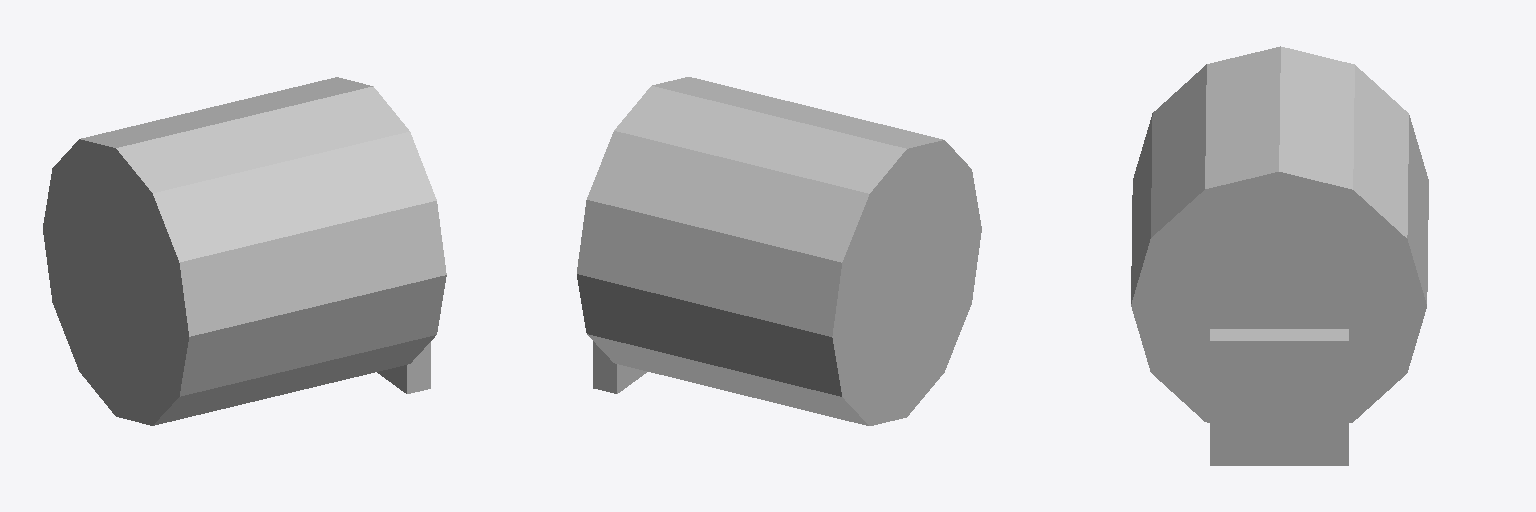
Rendered from rotary.obj.
3 renders of one model, left to right at view 1: azimuth 30°, elevation 25°; view 2: azimuth 150°, elevation 25°; view 3: azimuth 270°, elevation 25°, orthographic.
Parts seen in each view (by area): view 1: Cylinder, Cube.001; view 2: Cylinder, Cube.001; view 3: Cylinder, Cube.001.
Boxes of the visible parts, box(x1,y1,x2,y2) form: Cylinder: box(43, 77, 446, 425); Cube.001: box(377, 342, 430, 393); Cylinder: box(577, 77, 981, 425); Cube.001: box(593, 341, 646, 393); Cylinder: box(1131, 46, 1428, 422); Cube.001: box(1210, 329, 1348, 465).
Bounding box in the file's own units: 0.946 × 0.9114 × 0.8701.